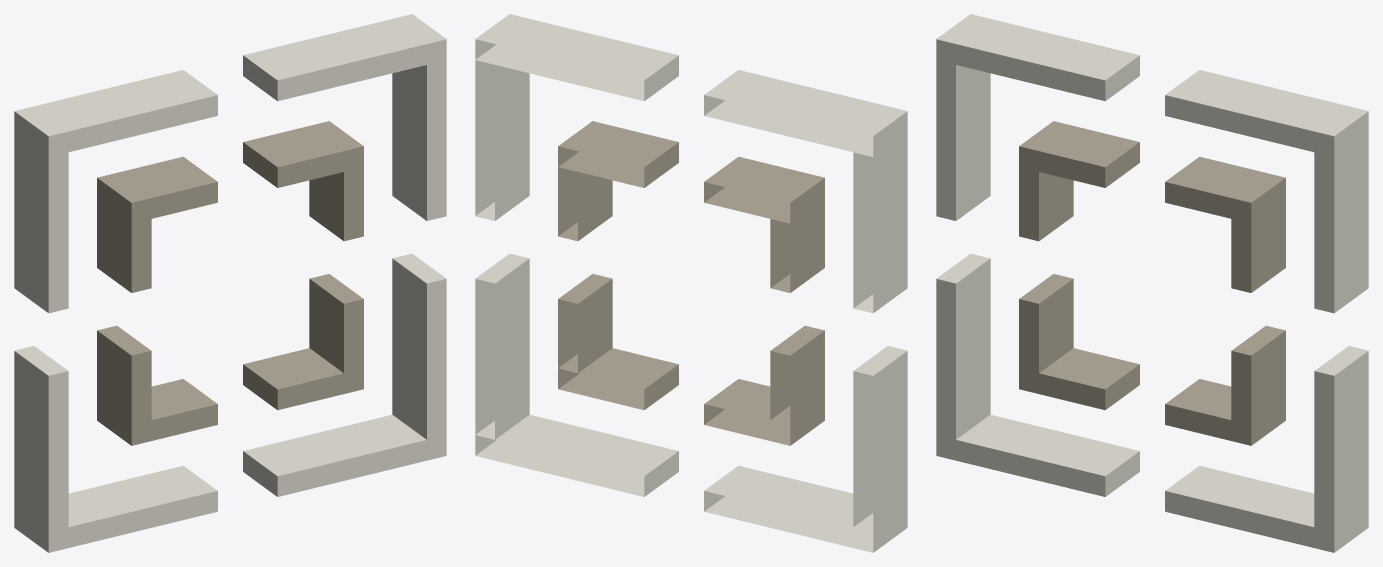
Rendered from construction_0.glb.
3 renders of one model, left to right at view 1: azimuth 30°, elevation 25°; view 2: azimuth 150°, elevation 25°; view 3: azimuth 330°, elevation 25°, orthographic.
Parts seen in each view (by area): view 1: c0; view 2: c0; view 3: c0.
Part boxes in pixels (box(x1,y1,x2,y2)): c0: box(14, 14, 446, 552); c0: box(475, 14, 907, 552); c0: box(936, 14, 1368, 552).
Bounding box in the file's own units: 12 × 12 × 1.8.
